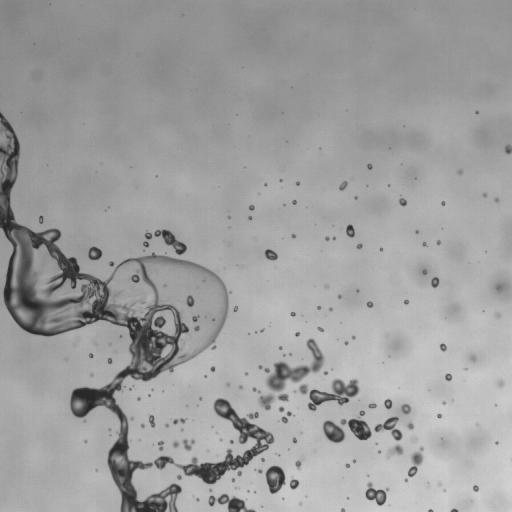droplet: (322, 410, 371, 442), (374, 416, 402, 441), (265, 466, 285, 493), (365, 482, 388, 505), (386, 444, 403, 458), (88, 246, 102, 260), (184, 293, 196, 309), (265, 249, 277, 260), (182, 439, 194, 450), (289, 477, 299, 489), (346, 224, 354, 237), (401, 404, 411, 414), (431, 277, 439, 287), (384, 398, 391, 409), (339, 181, 347, 190), (295, 459, 302, 469), (399, 197, 406, 206), (505, 144, 511, 154), (192, 314, 199, 322), (405, 422, 413, 429), (445, 373, 452, 380), (497, 380, 504, 387), (440, 343, 446, 351), (368, 403, 376, 409), (158, 441, 163, 450), (366, 301, 373, 307), (470, 355, 476, 362), (172, 441, 179, 447), (495, 284, 500, 292), (356, 243, 362, 249), (278, 406, 284, 412), (411, 436, 417, 442), (367, 163, 372, 169), (139, 298, 145, 303), (317, 326, 323, 331), (473, 485, 478, 491), (39, 216, 43, 223), (255, 469, 262, 473), (249, 205, 254, 210), (109, 261, 114, 266), (107, 358, 112, 363), (210, 366, 215, 371), (162, 283, 168, 287), (494, 198, 499, 202), (325, 236, 329, 241), (195, 285, 200, 289), (233, 306, 237, 311), (290, 312, 295, 316), (495, 313, 500, 317), (437, 413, 441, 418), (292, 438, 297, 442), (177, 474, 181, 479), (458, 170, 462, 174), (292, 200, 296, 204), (441, 201, 445, 205), (436, 240, 440, 244), (422, 242, 426, 246), (422, 270, 426, 274), (404, 300, 408, 304), (295, 332, 299, 336), (89, 353, 93, 357), (437, 482, 441, 486), (340, 508, 345, 511), (483, 193, 486, 197), (291, 234, 295, 237), (325, 284, 328, 288), (239, 385, 242, 389), (346, 463, 349, 467), (428, 509, 433, 511), (296, 182, 299, 185), (248, 216, 251, 219), (338, 295, 341, 298), (345, 341, 348, 344), (279, 346, 282, 349), (324, 371, 327, 374), (90, 373, 93, 376), (141, 424, 144, 427), (230, 440, 233, 443), (261, 458, 264, 461), (231, 479, 235, 481), (475, 111, 478, 113), (264, 183, 267, 185), (332, 237, 335, 239), (318, 306, 320, 309), (329, 308, 332, 310), (352, 336, 355, 338), (245, 372, 247, 375), (226, 383, 229, 385), (137, 398, 140, 400), (443, 401, 445, 404), (166, 424, 168, 427), (495, 441, 497, 444), (378, 450, 380, 453), (353, 459, 355, 462), (404, 479, 407, 481), (380, 248, 382, 250), (178, 281, 180, 283), (261, 329, 263, 331), (120, 335, 122, 337), (289, 353, 291, 355), (131, 417, 133, 419), (209, 489, 211, 491)
ligament: (0, 112, 272, 511), (258, 337, 324, 410), (294, 378, 359, 410), (143, 229, 186, 254), (208, 493, 255, 511), (408, 446, 423, 477), (280, 411, 293, 423), (148, 414, 155, 427), (173, 418, 186, 424), (252, 387, 260, 393), (450, 508, 458, 511)
